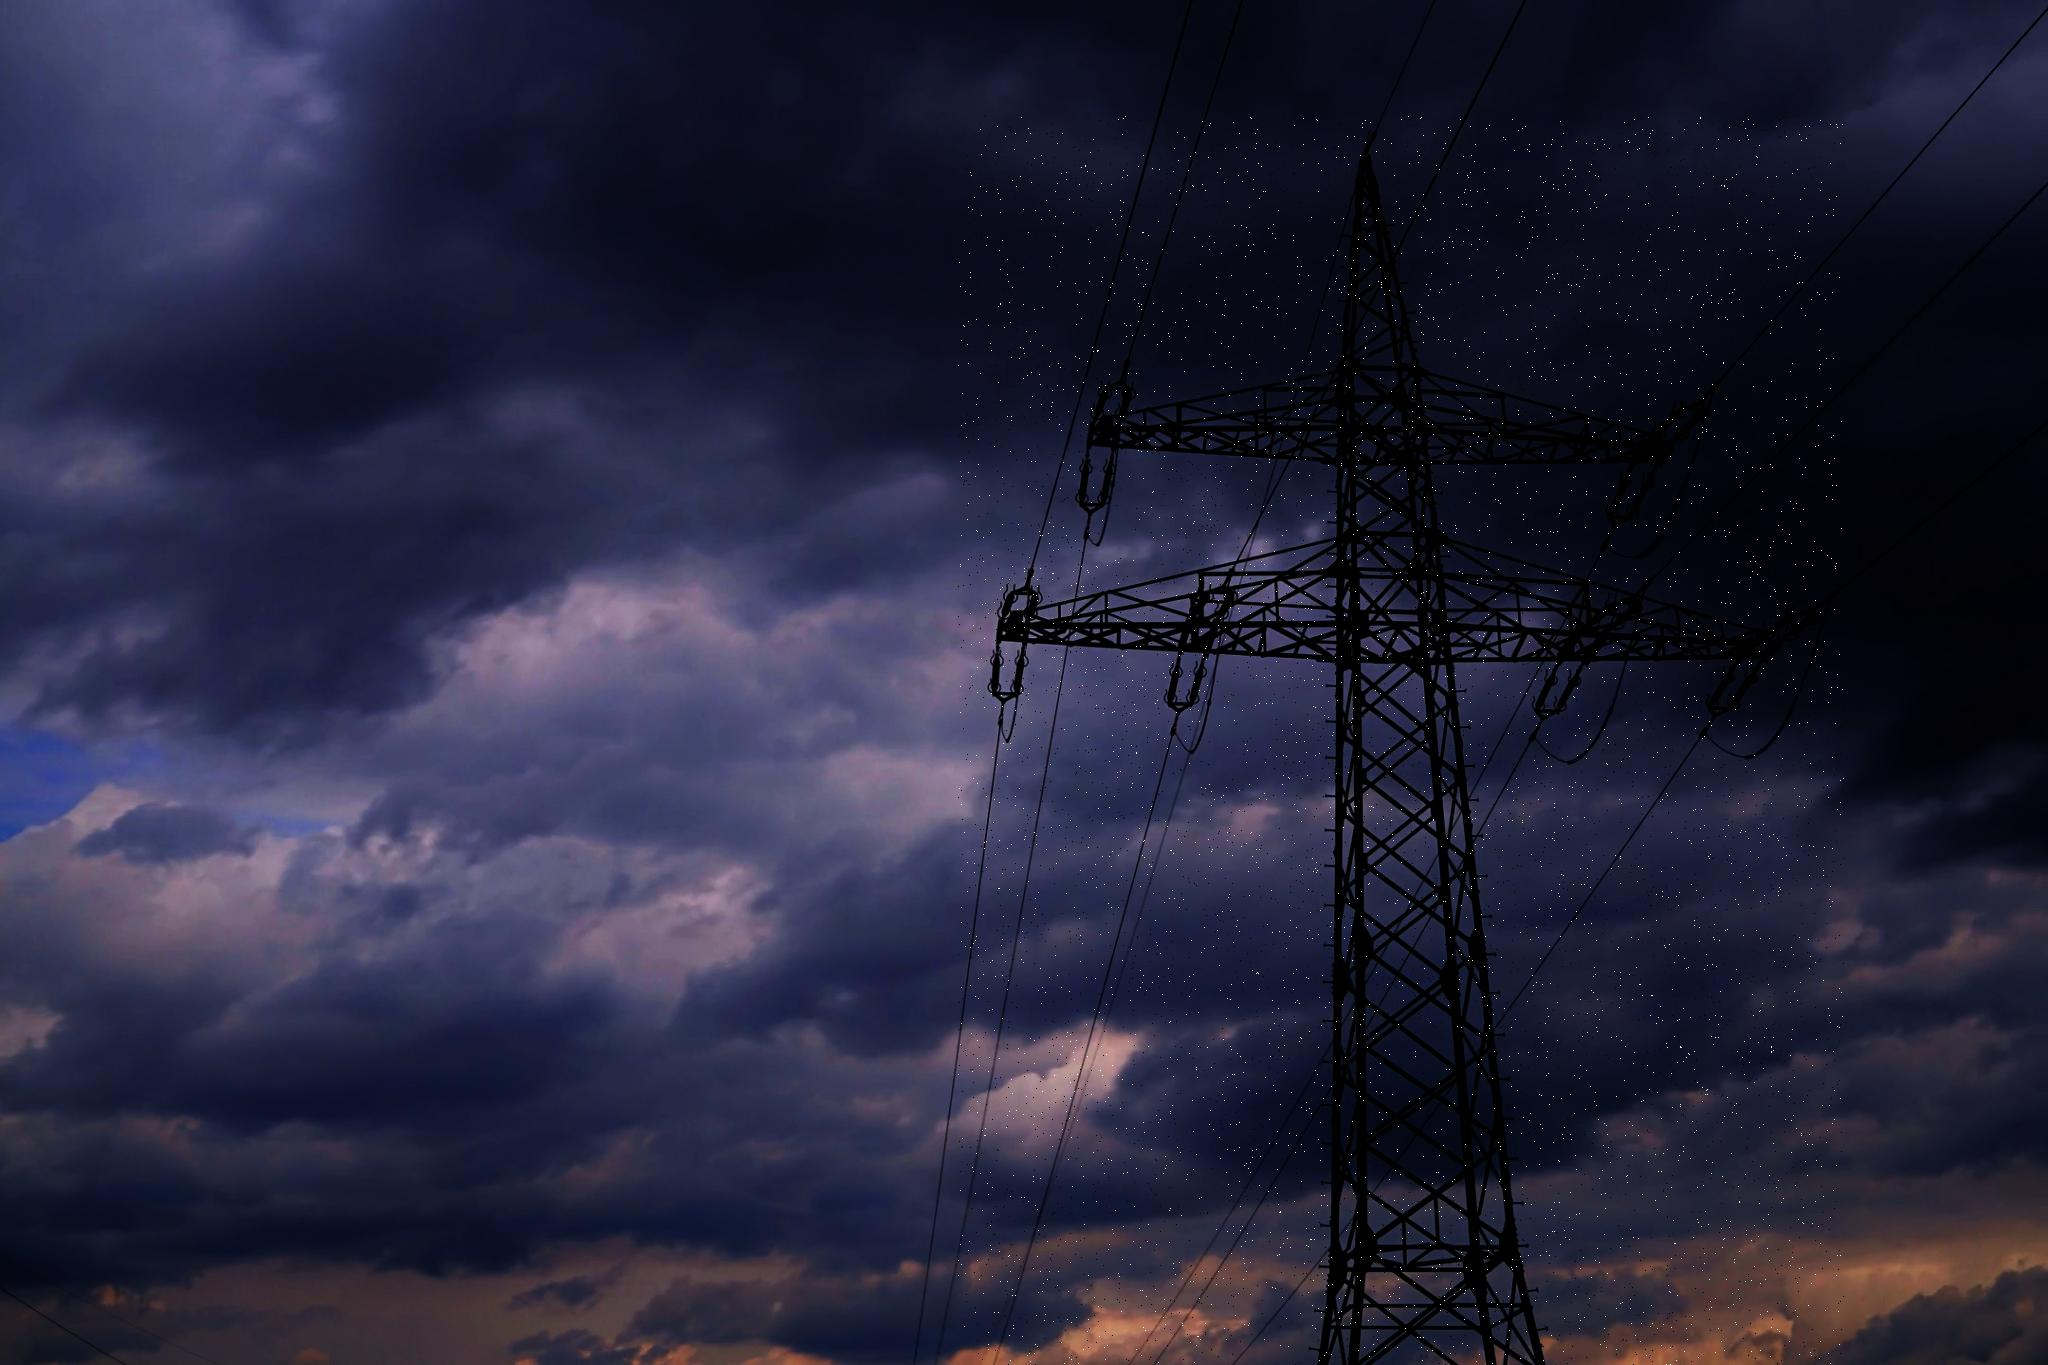cable tower: (958, 116, 1844, 1365)
